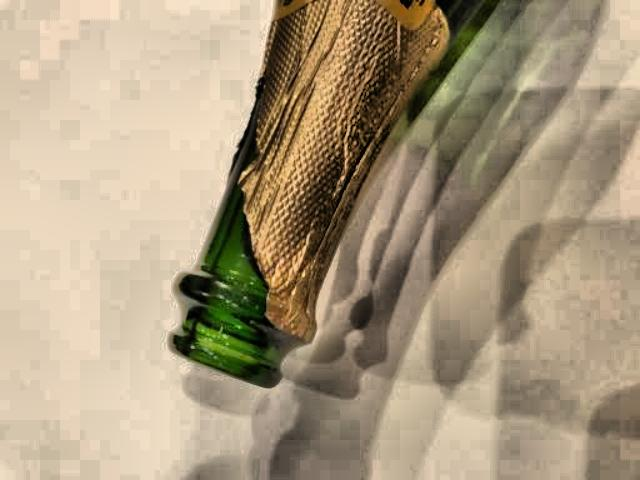Bottles: (159, 0, 515, 375)
